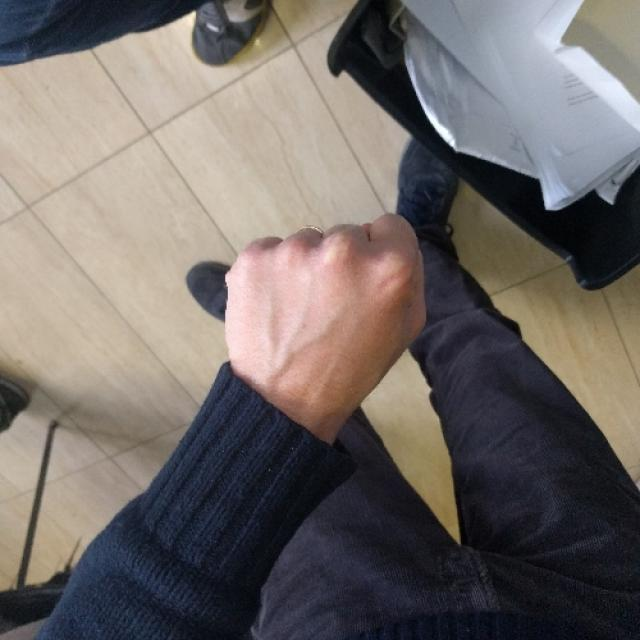rock: (226, 214, 428, 380)
